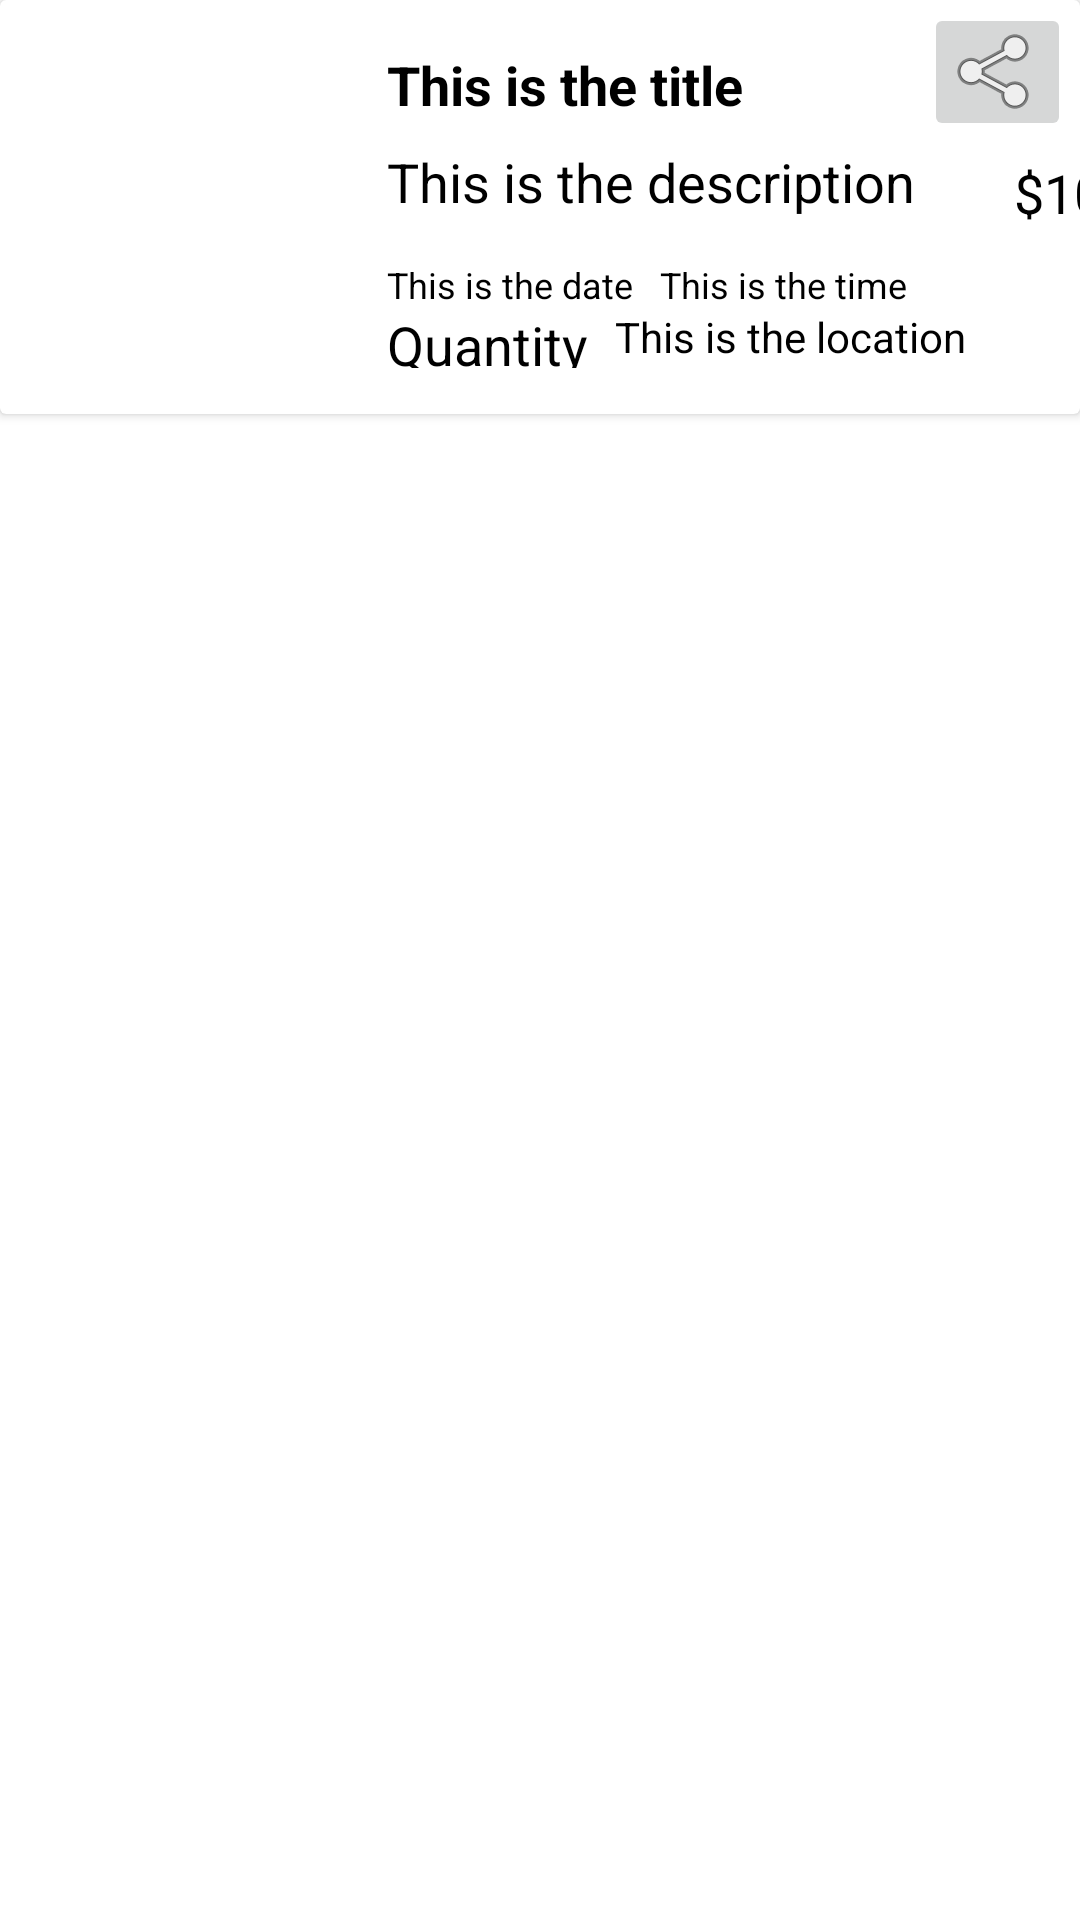

Where to tap for icons on this 1080px x 1920px app screen, as point (x, y):
share: point (997, 72)
